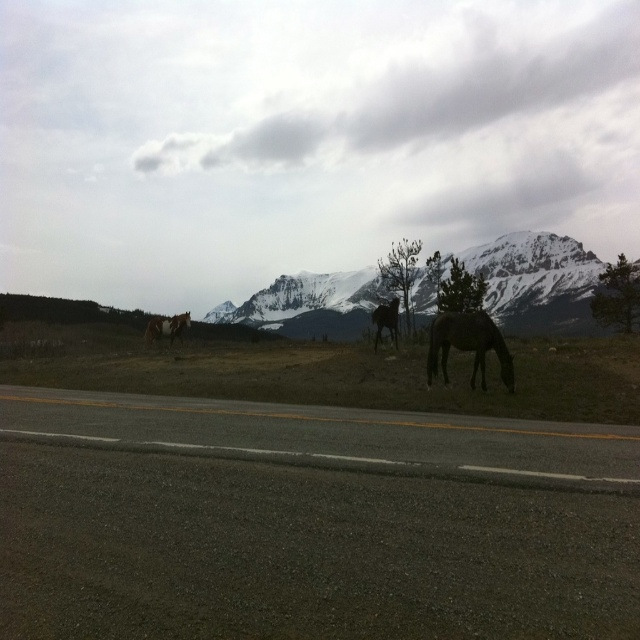Horse: (426, 309, 517, 394), (141, 307, 193, 355), (371, 297, 401, 357)
